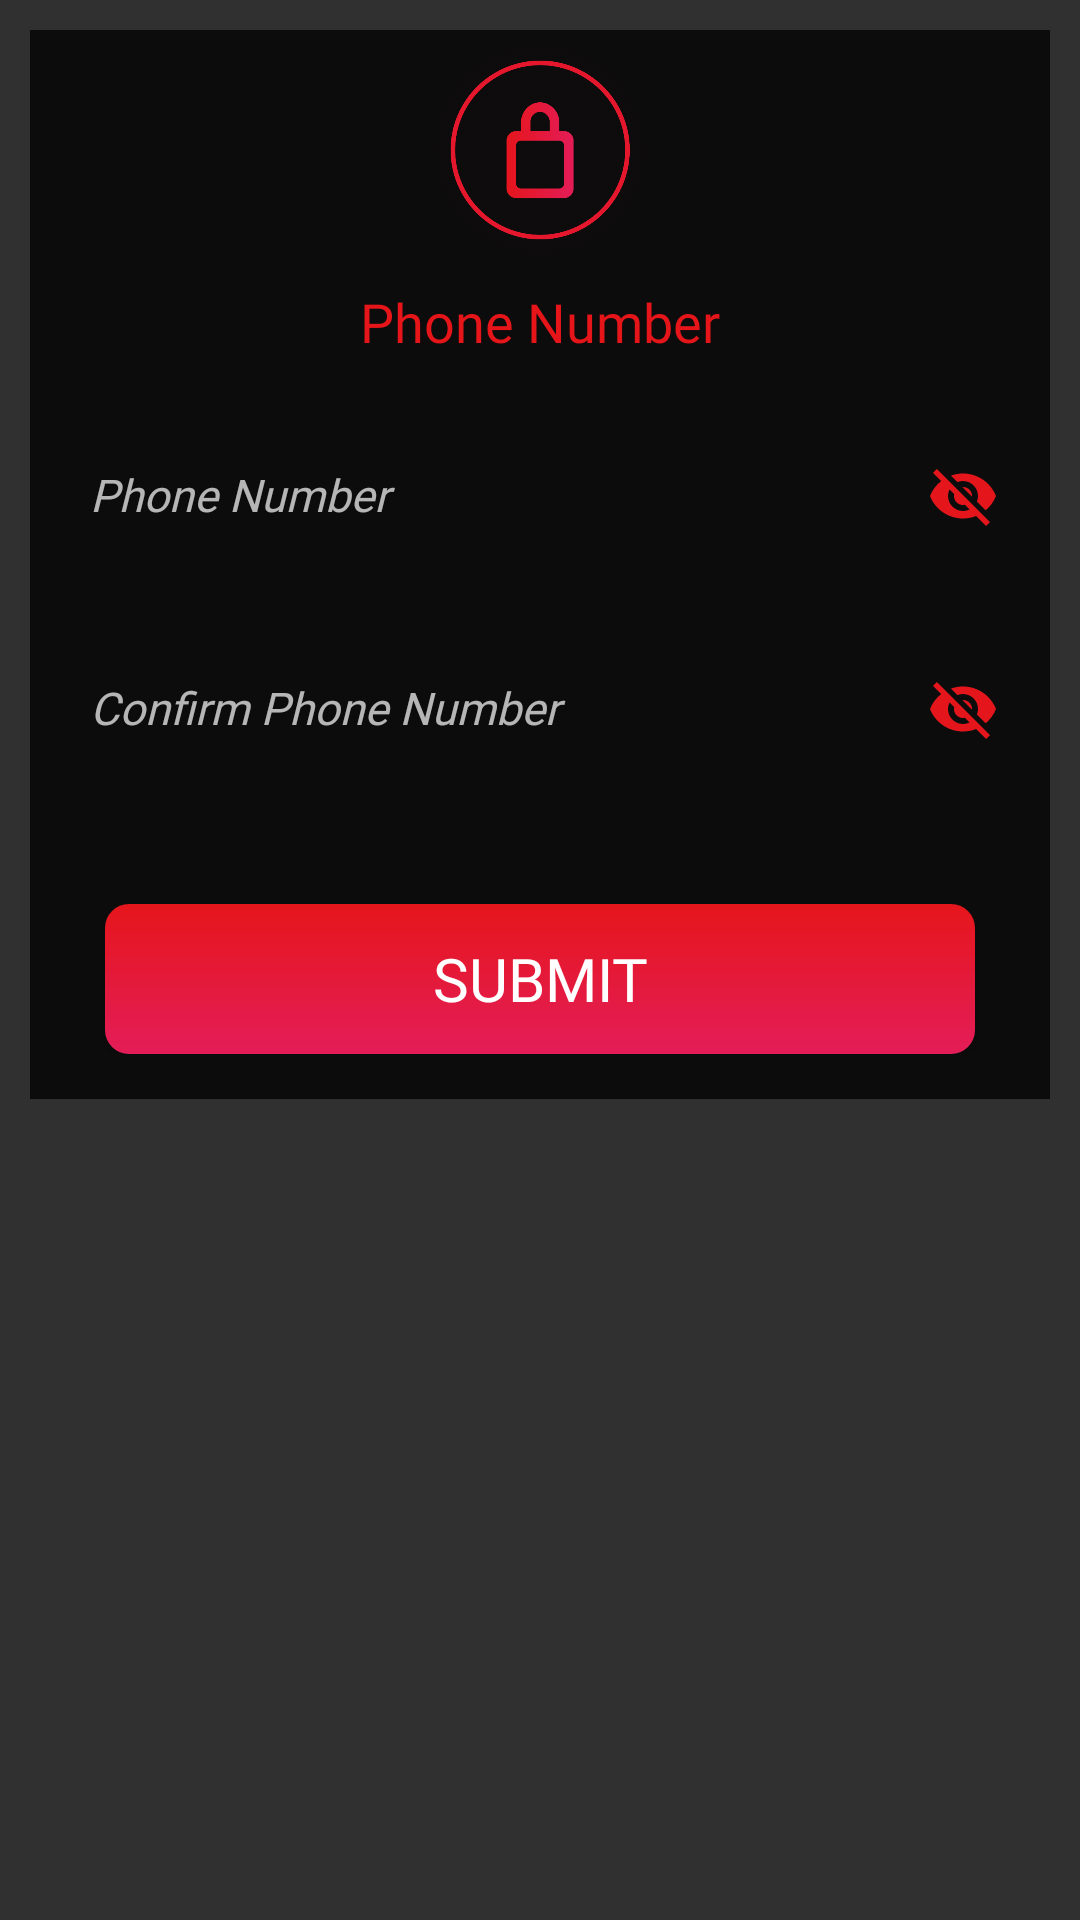

Where to tap for icons on this 1080 x 1920 app screen, as point (x, y):
lock: point (540, 150)
